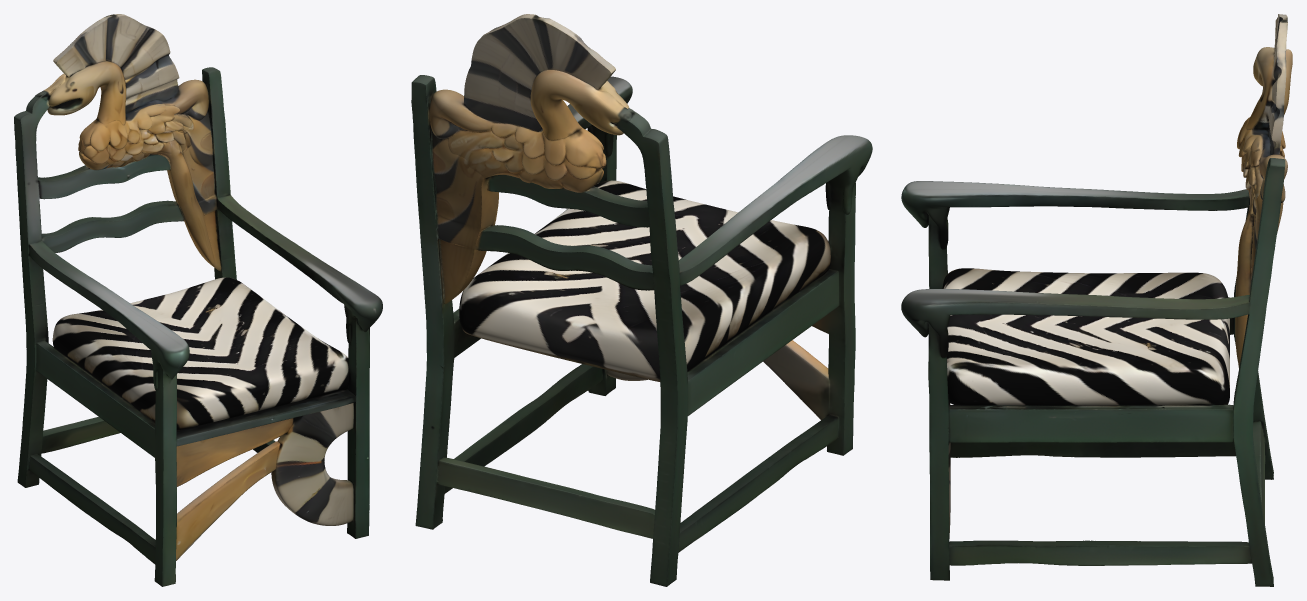
3 renders of one model, left to right at view 1: azimuth 30°, elevation 25°; view 2: azimuth 150°, elevation 25°; view 3: azimuth 270°, elevation 25°, orthographic. The views are drawn at different scales.
Visible parts, largest first — view 1: root.0, root.1, root.2, root.3, root.4; view 2: root.0, root.1, root.3, root.4; view 3: root.0, root.1, root.3, root.4.
Boxes of the visible parts, x1,y1,x2,y2 form: root.0: (14, 14, 382, 586); root.1: (52, 277, 348, 430); root.2: (271, 403, 353, 525); root.3: (78, 79, 208, 170); root.4: (35, 60, 126, 124); root.0: (411, 14, 872, 586); root.1: (459, 180, 830, 381); root.3: (430, 89, 606, 192); root.4: (530, 70, 632, 140); root.0: (901, 14, 1287, 586); root.1: (942, 268, 1229, 405); root.3: (1237, 117, 1287, 214); root.4: (1246, 47, 1292, 129).
Size of the model in its own units: 0.5653 by 1.09 by 0.7585.
Materials: 5 (5 with a texture image).
